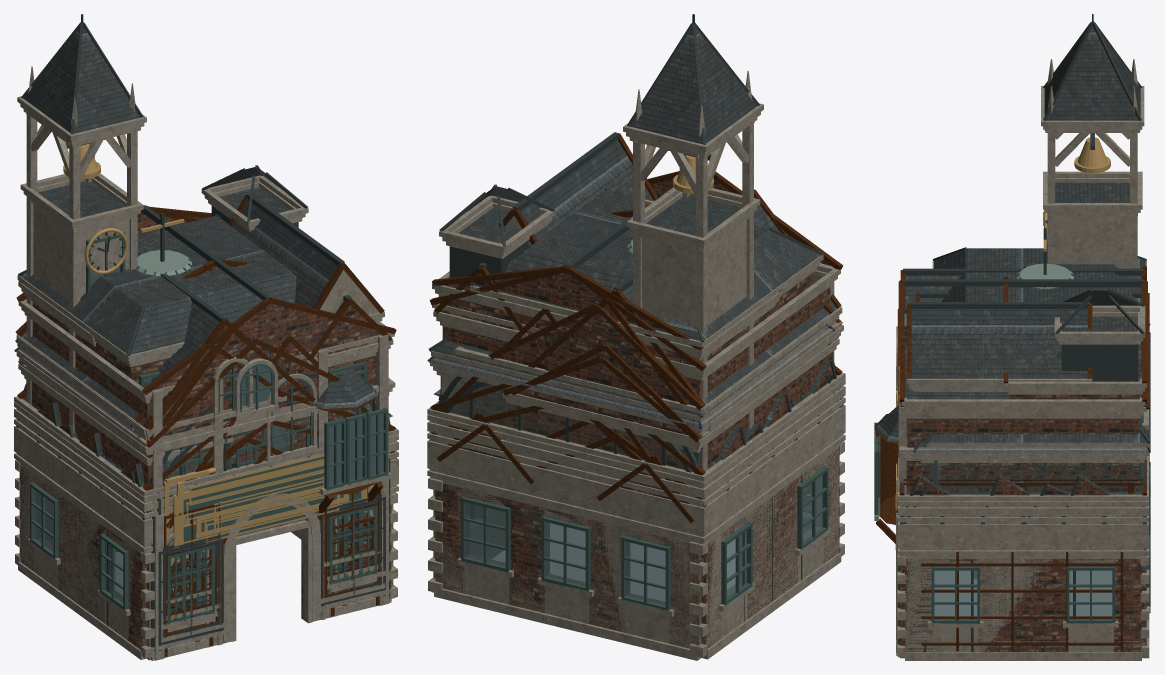
Rendered from expansion-buildings-v1.glb.
The picture shows the model from 3 angles, left to right: view 1: azimuth 30°, elevation 25°; view 2: azimuth 150°, elevation 25°; view 3: azimuth 270°, elevation 25°; orthographic projection. The views are drawn at different scales.
Visible parts, largest first — view 1: B01_Roof_Structure, B20_Roof_Structure, B25_Roof_Structure, B23_Roof_Structure, B21_Roof_Structure, B01_Shell_Structure, B07_Roof_Craft, B01_Front_Structure, B07_Roof_Structure, B13_Roof_Structure, B02_Roof_Structure, B01_Roof_Craft (+51 smaller); view 2: B01_Roof_Structure, B01_Shell_Structure, B20_Roof_Structure, B01_Shell_Craft, B07_Roof_Structure, B25_Roof_Structure, B23_Roof_Structure, B09_Roof_Structure, B03_Shell_Structure, B27_Roof_Structure, B02_Shell_Craft, B02_Shell_Structure (+35 smaller); view 3: B01_Roof_Structure, B20_Roof_Structure, B23_Roof_Structure, B25_Roof_Structure, B11_Shell_Structure, B03_Shell_Structure, B01_Shell_Structure, B01_Shell_Craft, B09_Roof_Structure, B24_Roof_Structure, B20_Roof_Craft, B30_Shell_Structure (+25 smaller).
Part boxes in pixels (x1,y1,x2,y2): B01_Roof_Structure: (14,26,398,551); B20_Roof_Structure: (17,175,395,446); B25_Roof_Structure: (16,205,396,636); B23_Roof_Structure: (17,194,384,485); B21_Roof_Structure: (23,339,339,485); B01_Shell_Structure: (15,460,394,659); B07_Roof_Craft: (195,318,388,535); B01_Front_Structure: (140,492,397,660); B07_Roof_Structure: (14,321,398,531); B13_Roof_Structure: (14,390,398,496); B02_Roof_Structure: (14,328,398,534); B01_Roof_Craft: (21,14,312,454); B01_Roof_Structure: (427,27,845,488); B01_Shell_Structure: (428,448,841,660); B20_Roof_Structure: (439,190,841,465); B01_Shell_Craft: (461,466,828,610); B07_Roof_Structure: (427,303,845,520); B25_Roof_Structure: (429,171,843,395); B23_Roof_Structure: (498,133,842,468); B09_Roof_Structure: (427,210,845,499); B03_Shell_Structure: (433,448,839,658); B27_Roof_Structure: (503,343,830,456); B02_Shell_Craft: (466,476,821,604); B02_Shell_Structure: (433,455,839,658); B01_Roof_Structure: (898,26,1148,578); B20_Roof_Structure: (899,248,1146,494); B23_Roof_Structure: (900,270,1145,391); B25_Roof_Structure: (898,280,1146,493); B11_Shell_Structure: (905,559,1146,652); B03_Shell_Structure: (905,559,1146,652); B01_Shell_Structure: (905,551,1150,660); B01_Shell_Craft: (931,462,1150,623); B09_Roof_Structure: (898,266,1148,517); B24_Roof_Structure: (900,337,1145,447); B20_Roof_Craft: (933,247,1146,381); B30_Shell_Structure: (921,552,1123,651).
Size of the model in its own units: 7.9 by 16.49 by 7.58.
12 materials, 4 textured.
